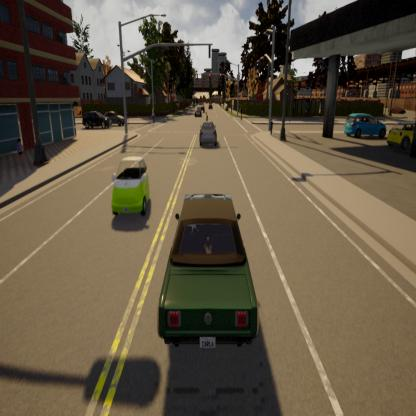Cars: (153, 179, 270, 362), (103, 148, 157, 219), (345, 110, 387, 140), (198, 119, 221, 152), (80, 106, 110, 128), (103, 107, 128, 128), (194, 106, 204, 118)
Pedestrian: (150, 102, 158, 130), (236, 102, 246, 124), (203, 107, 210, 122)
